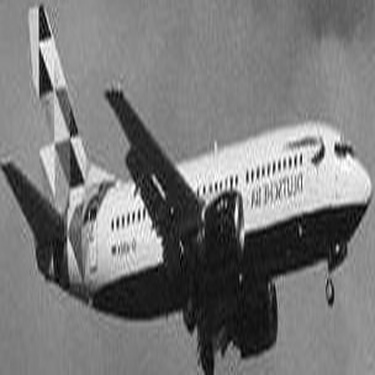airplane: (3, 1, 370, 371)
